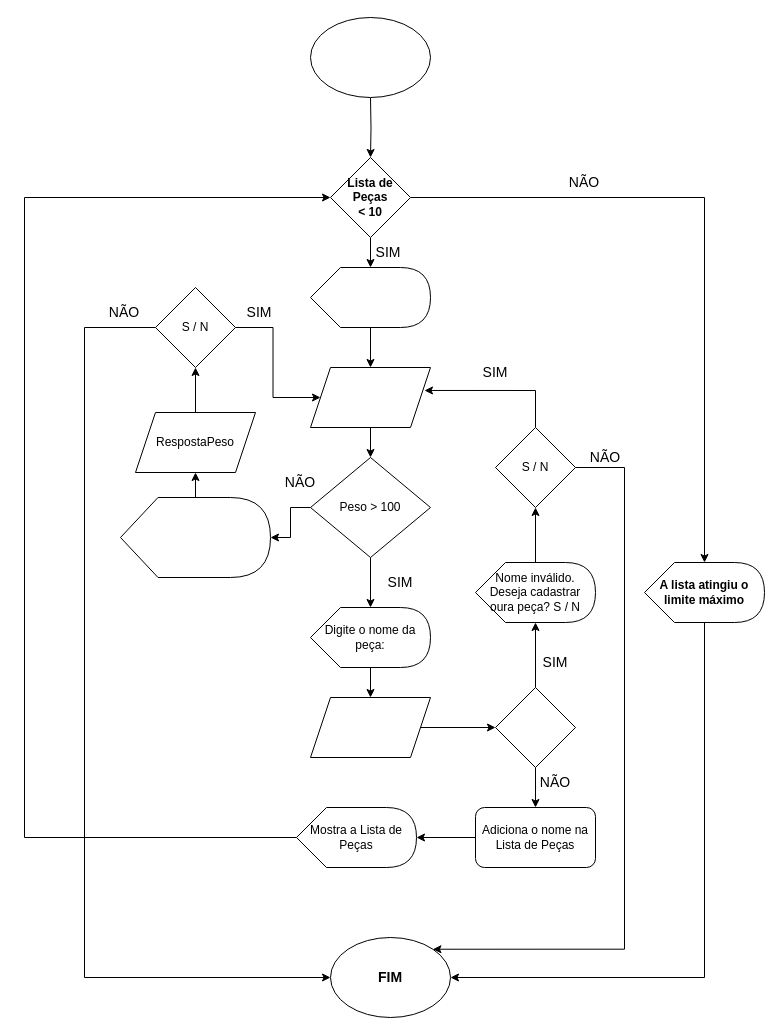
Image size: 782x1035. Some labels were removed from this diagram. The shapes that lost their labels are listed below. From the top down, each one's centre as x and y in pixels, then its label:
At [370,57]: "Inicio".
At [370,297]: "Digite o Peso da Peça:".
At [370,397]: "Peso".
At [195,537]: "Peso inválido. Deseja Cadastrar nova peça? S / N".
At [370,727]: "Nome da Peça".
At [535,727]: "Nome < 3 caracteres".
